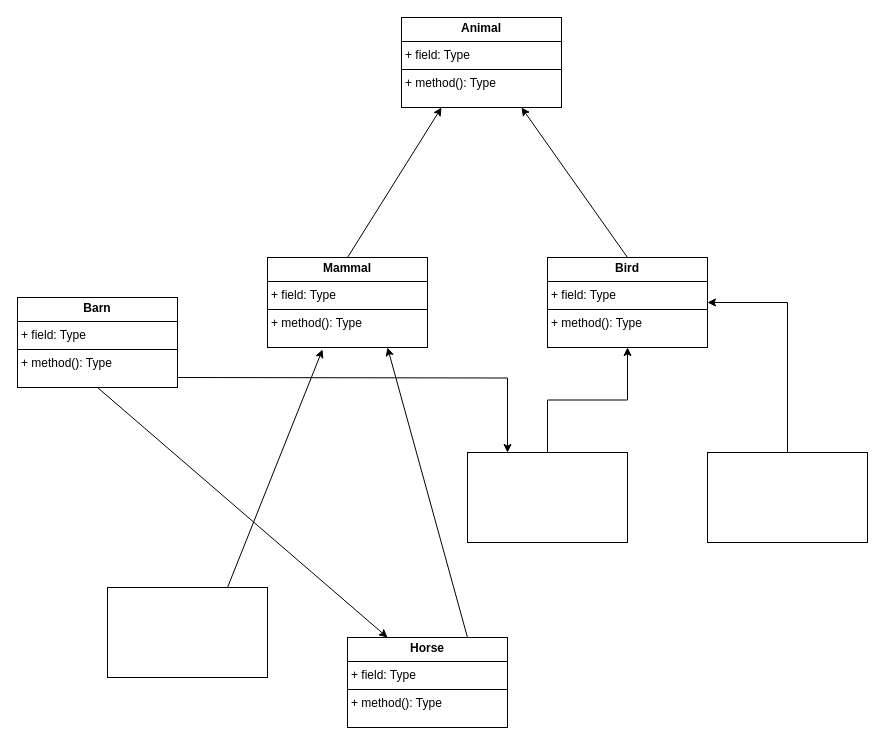
The diagram is 885 pixels wide and 745 high, and some of its shapes have lost their labels. The shapes that lost their labels are listed below. From the top down, each one's centre as x and y in pixels, then its label:
(547,497): Chicken + field: Type + method(): Type
(787,497): Parrot + field: Type + method(): Type
(187,632): Cow + field: Type + method(): Type
